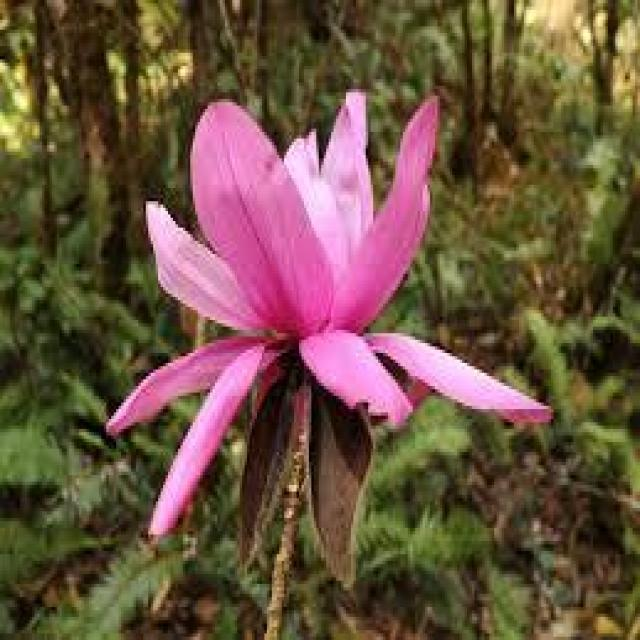organic waste: (94, 88, 553, 506)
